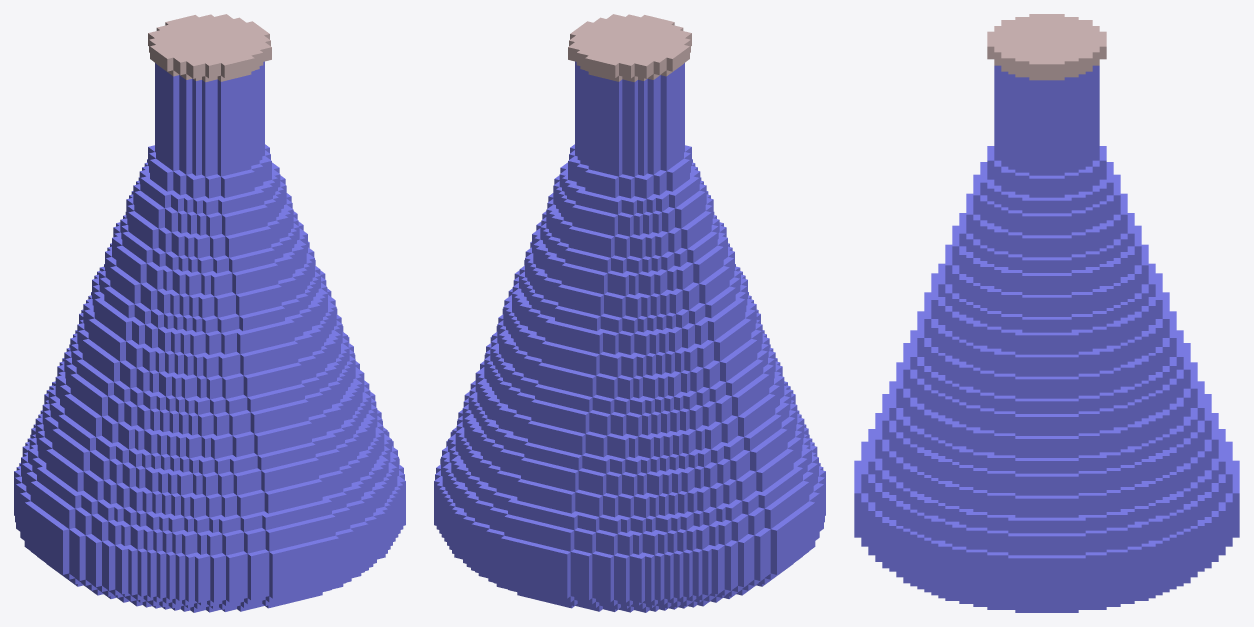
File: Flask3-4-1.fbx
The picture shows the model from 3 angles, left to right: view 1: azimuth 30°, elevation 25°; view 2: azimuth 150°, elevation 25°; view 3: azimuth 270°, elevation 25°; orthographic projection.
Visible parts, largest first — view 1: Flask3-4-1.001, Flask3-4-1; view 2: Flask3-4-1.001, Flask3-4-1; view 3: Flask3-4-1.001, Flask3-4-1.
Boxes of the visible parts, left/top/right/bottom form: Flask3-4-1.001: left=14, top=61, right=405, bottom=612; Flask3-4-1: left=148, top=14, right=271, bottom=82; Flask3-4-1.001: left=434, top=61, right=825, bottom=612; Flask3-4-1: left=568, top=14, right=691, bottom=82; Flask3-4-1.001: left=854, top=65, right=1239, bottom=612; Flask3-4-1: left=987, top=14, right=1106, bottom=80.
Bounding box in the file's own units: 5.5 × 7.9 × 5.5.
